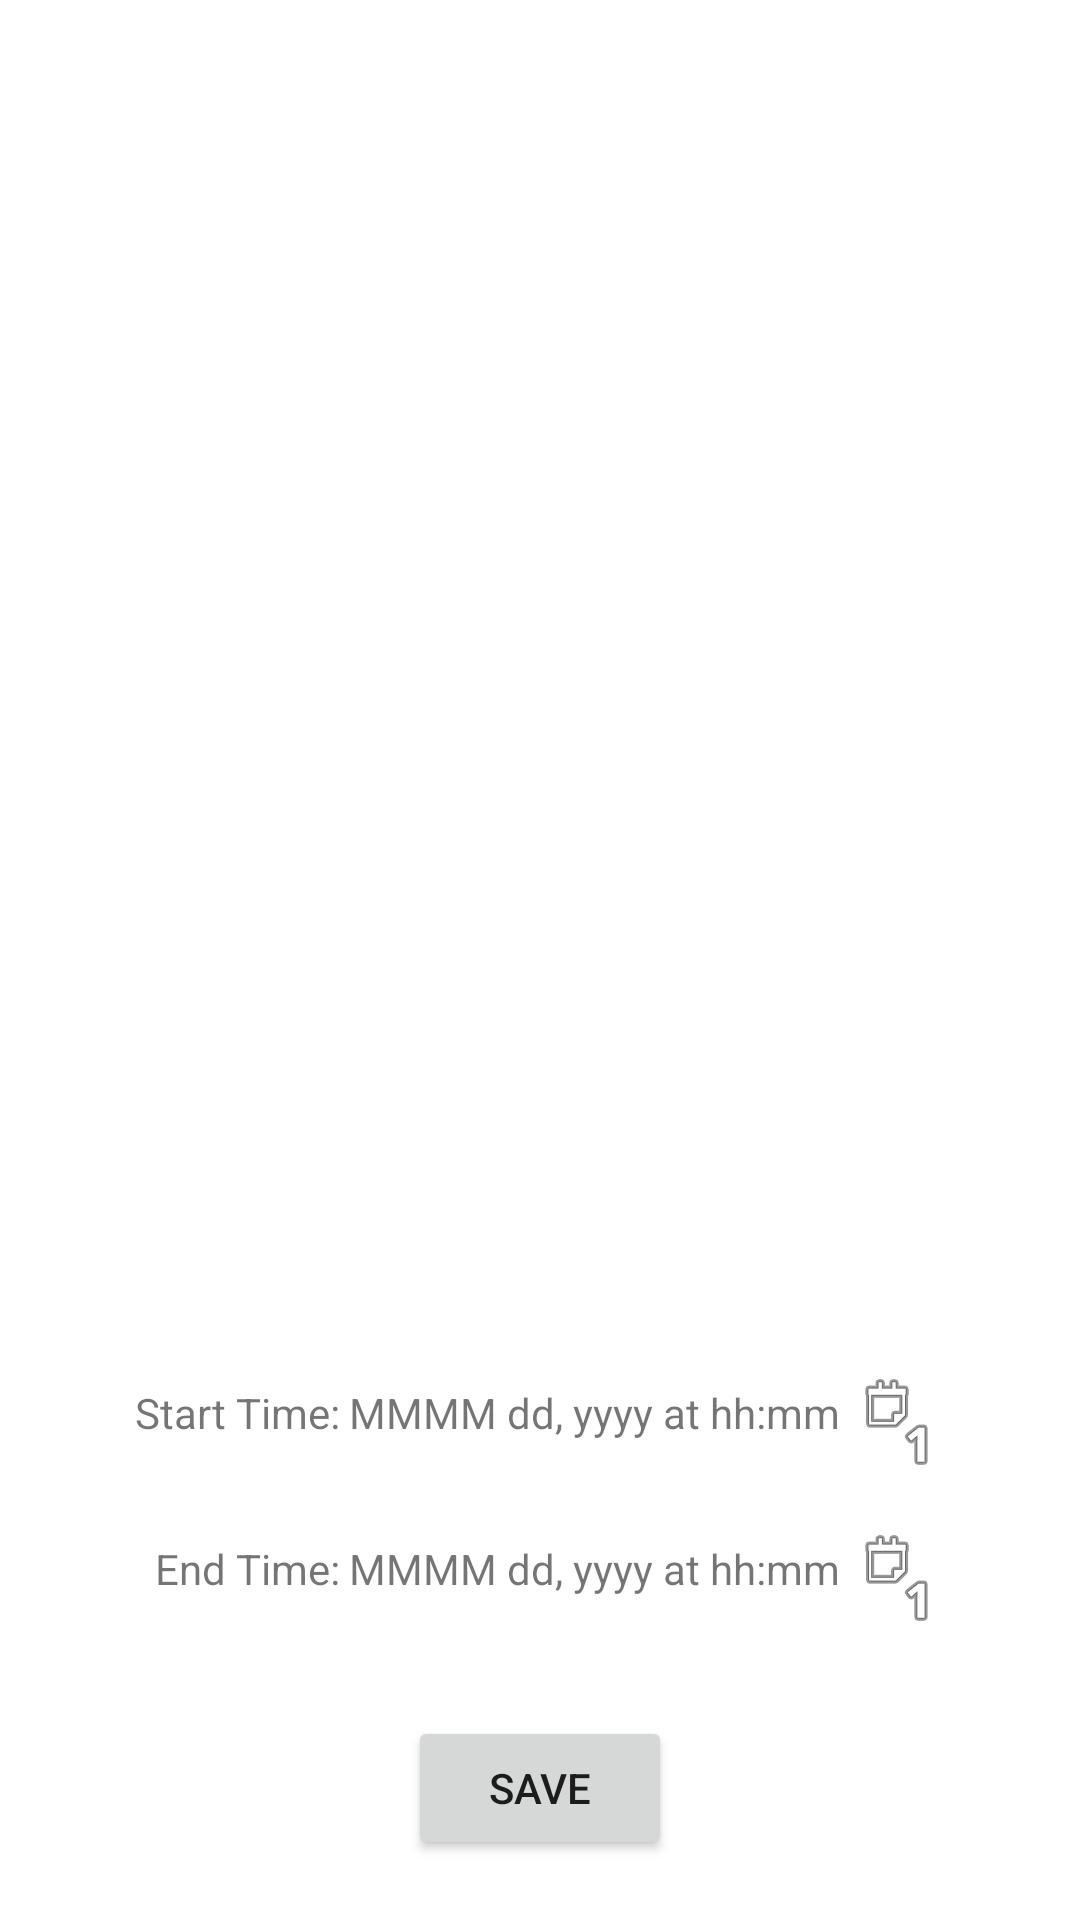

Screen size 1080×1920. Icon name, then its center in pixels as (x,y):
day: (896,1422), (896,1578)
